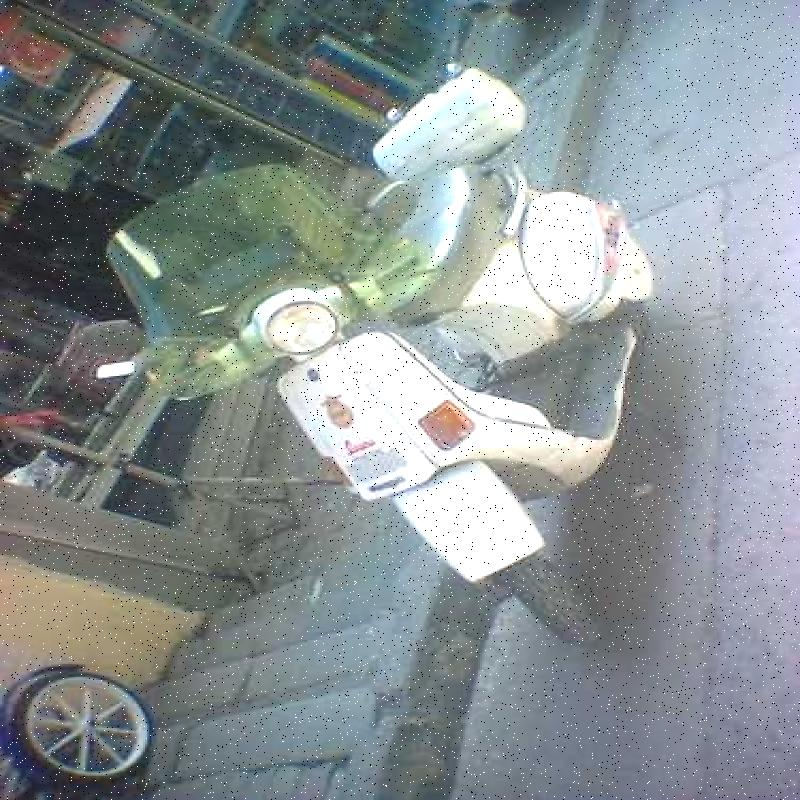bike: (125, 51, 686, 622)
